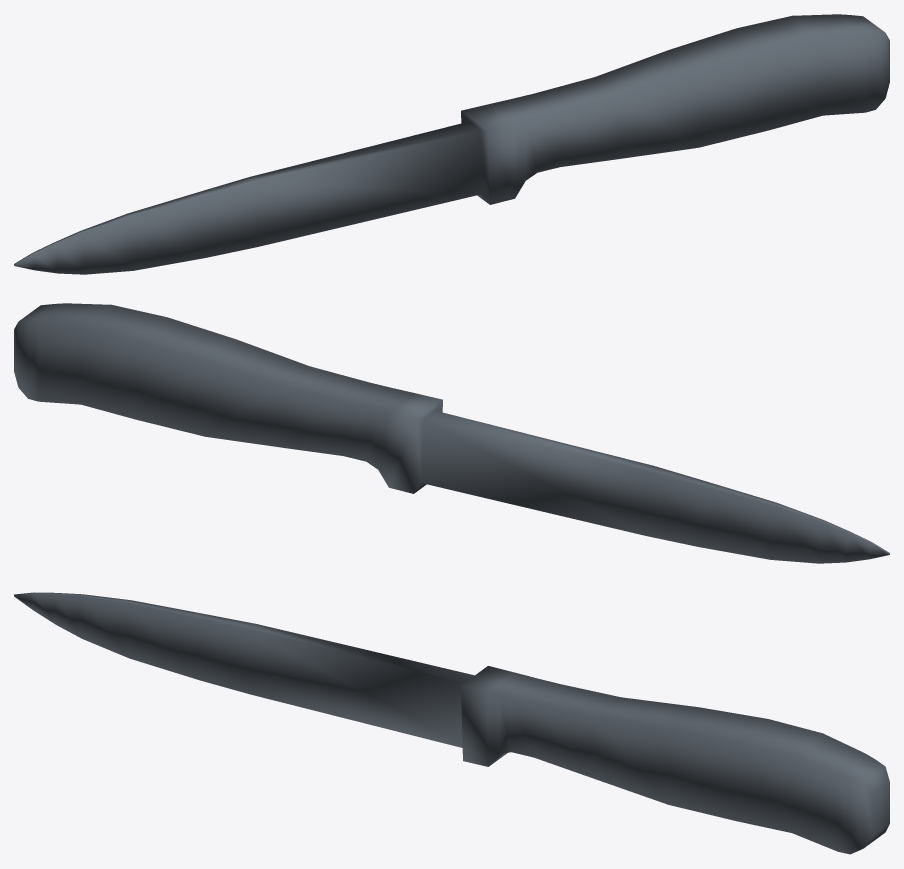
File: mdl_knive04.fbx
3 renders of one model, top to bottom at view 1: azimuth 30°, elevation 25°; view 2: azimuth 150°, elevation 25°; view 3: azimuth 330°, elevation 25°, orthographic.
Visible parts, largest first — view 1: sharp_knife_s; view 2: sharp_knife_s; view 3: sharp_knife_s.
Part boxes in pixels (x1,y1,x2,y2): sharp_knife_s: (14, 14, 889, 274); sharp_knife_s: (14, 303, 889, 563); sharp_knife_s: (14, 592, 889, 854).
Size of the model in its own units: 273 by 26.39 by 17.65.
